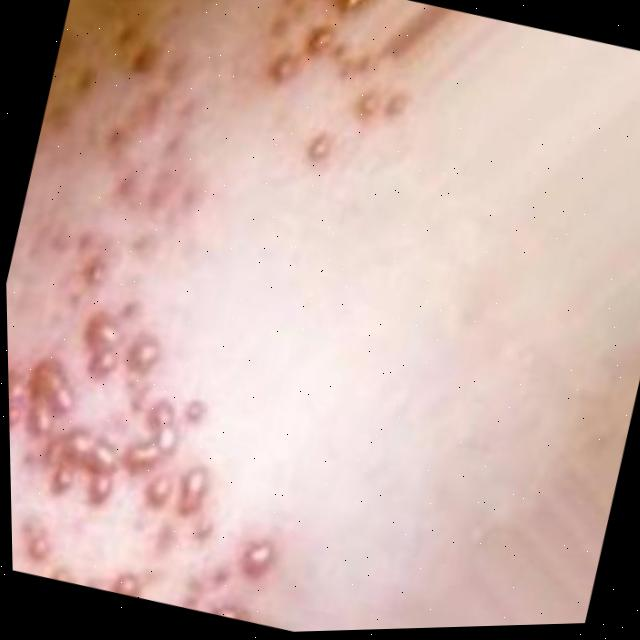Shingles: (6, 274, 323, 630), (53, 41, 240, 309), (230, 0, 426, 180)
